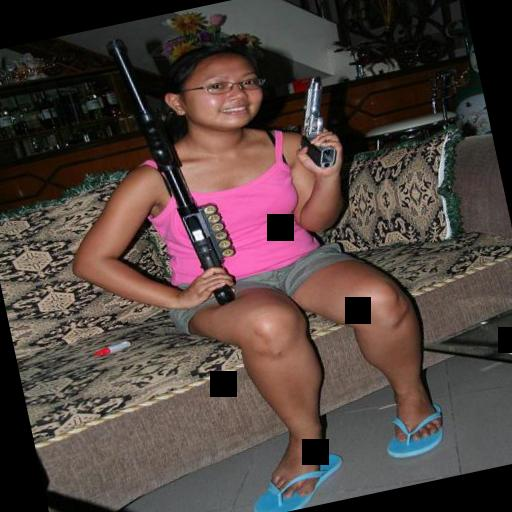Handgun: (277, 68, 355, 174)
